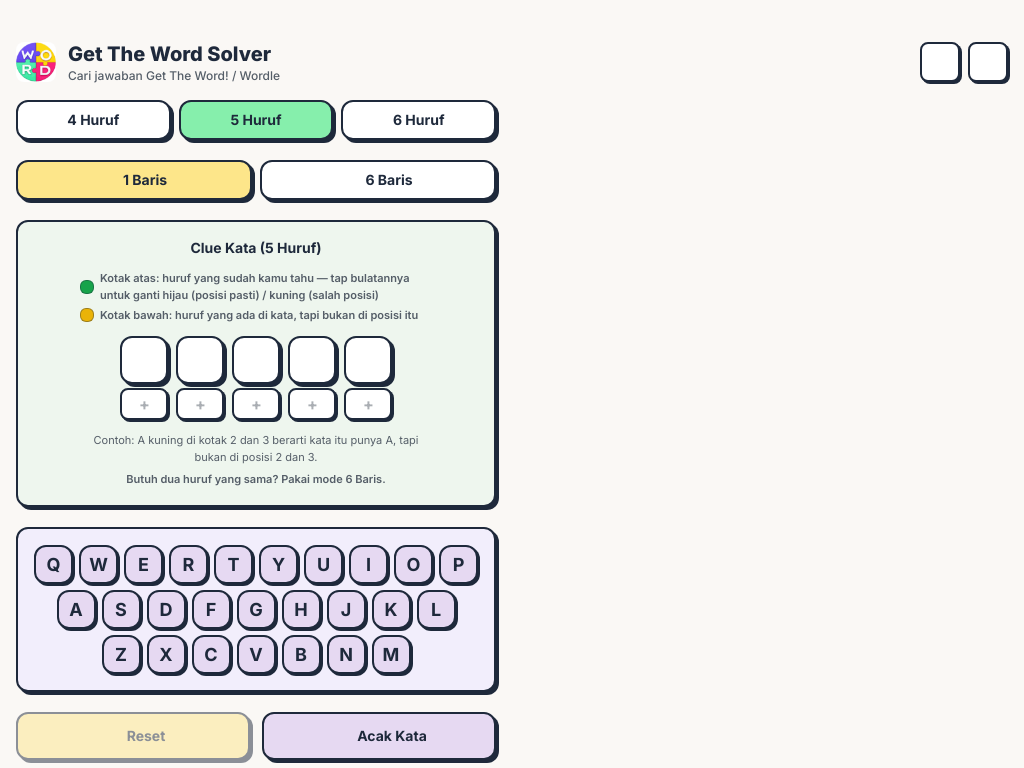
random word › prefers the common tier over the rare one
The image size is (1024, 768).
# A prefix with matches in both tiers.
Type "B" into the field named "Huruf hijau posisi 1" at (144, 360), box [120, 336, 168, 384]
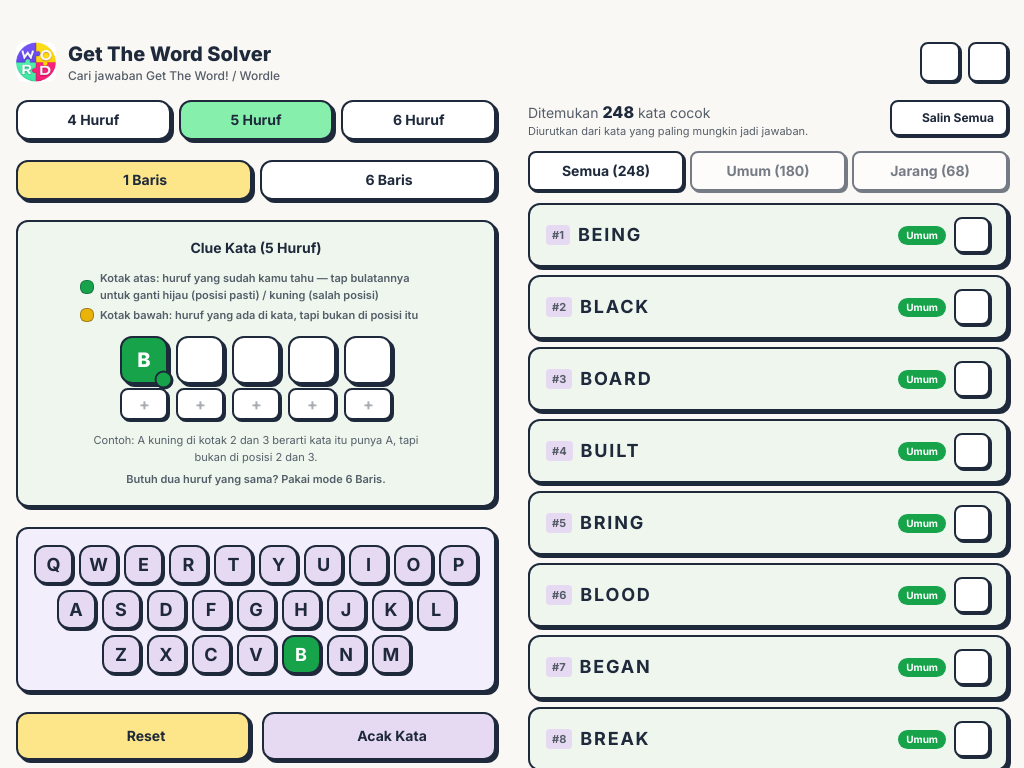
Click the button "Acak Kata" at (379, 736), box [262, 712, 496, 760]
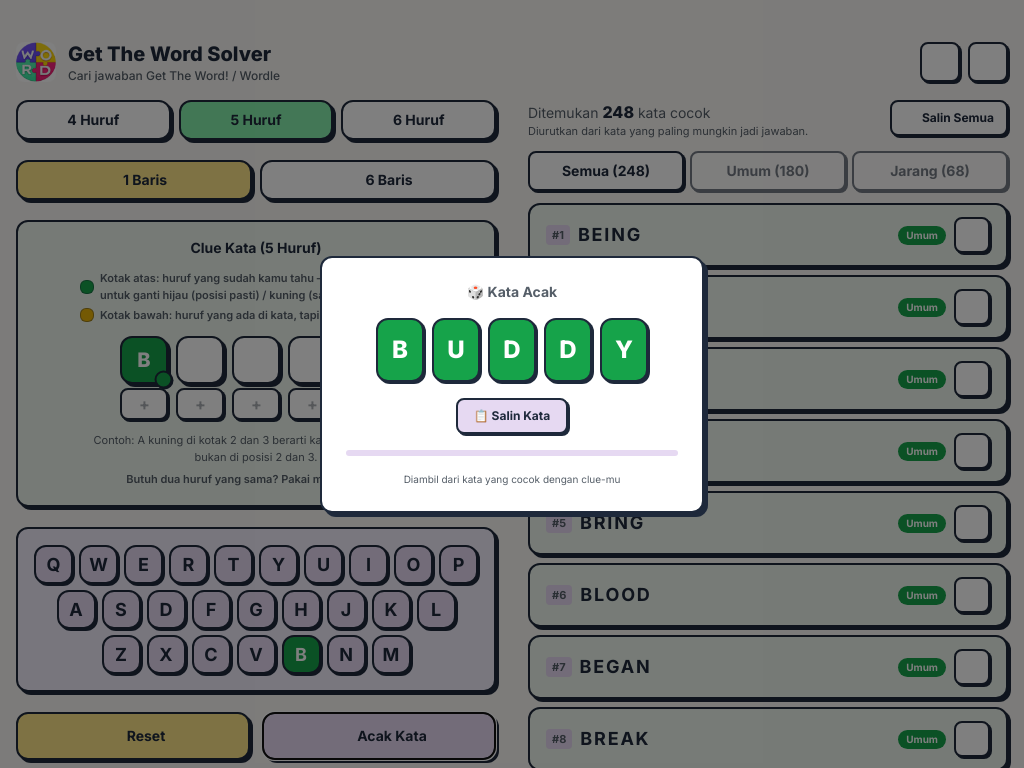
Check: the text "Diambil dari kata yang cocok dengan clue-mu" is shown, box [404, 472, 620, 486]
